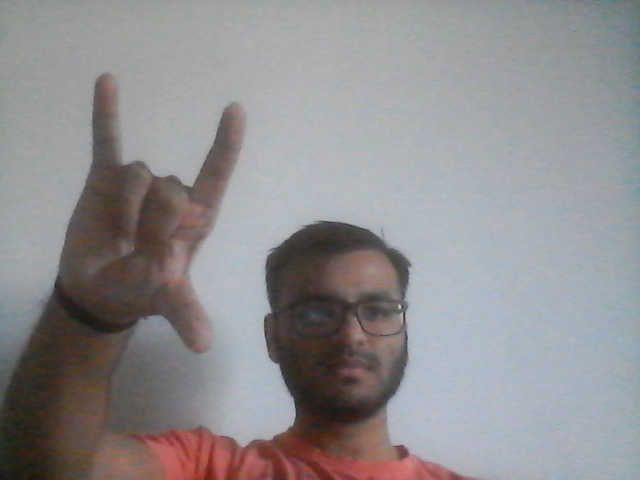I Love You: (54, 56, 250, 361)
